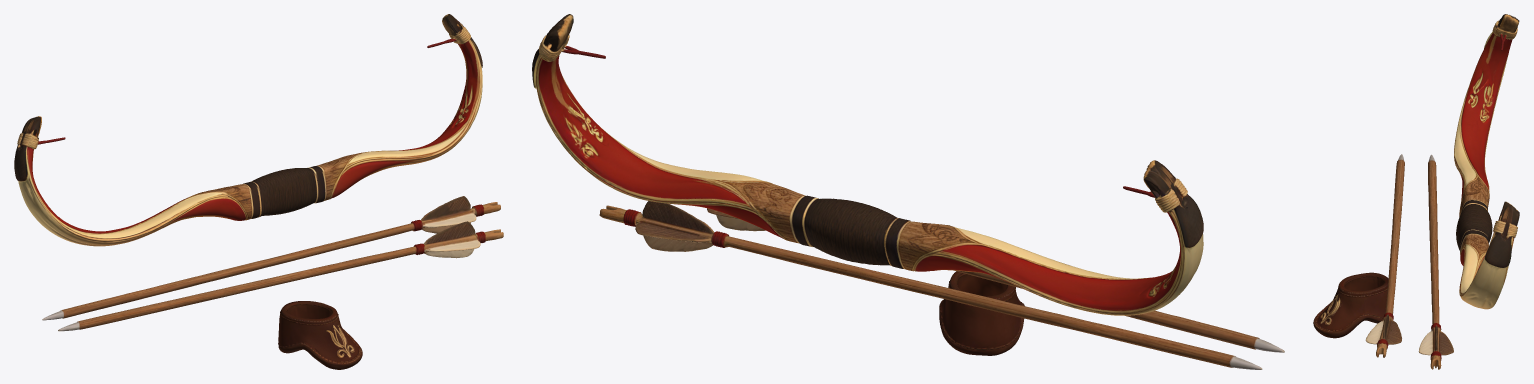
Rendered from Menzil yayı.glb.
3 views of the same model, side by side, from view 1: azimuth 30°, elevation 25°; view 2: azimuth 150°, elevation 25°; view 3: azimuth 270°, elevation 25° (orthographic). The views are drawn at different scales.
Parts seen in each view (by area): view 1: tripo_node_877afec4-0a92-401d-8ab4-60cc78028fa5; view 2: tripo_node_877afec4-0a92-401d-8ab4-60cc78028fa5; view 3: tripo_node_877afec4-0a92-401d-8ab4-60cc78028fa5.
Part boxes in pixels (left/top/right/bottom): tripo_node_877afec4-0a92-401d-8ab4-60cc78028fa5: left=14, top=14, right=503, bottom=369; tripo_node_877afec4-0a92-401d-8ab4-60cc78028fa5: left=532, top=14, right=1284, bottom=369; tripo_node_877afec4-0a92-401d-8ab4-60cc78028fa5: left=1313, top=14, right=1519, bottom=369.
Size of the model in its own units: 0.9831 by 0.4634 by 0.3917.
Materials: 1 (1 with a texture image).
